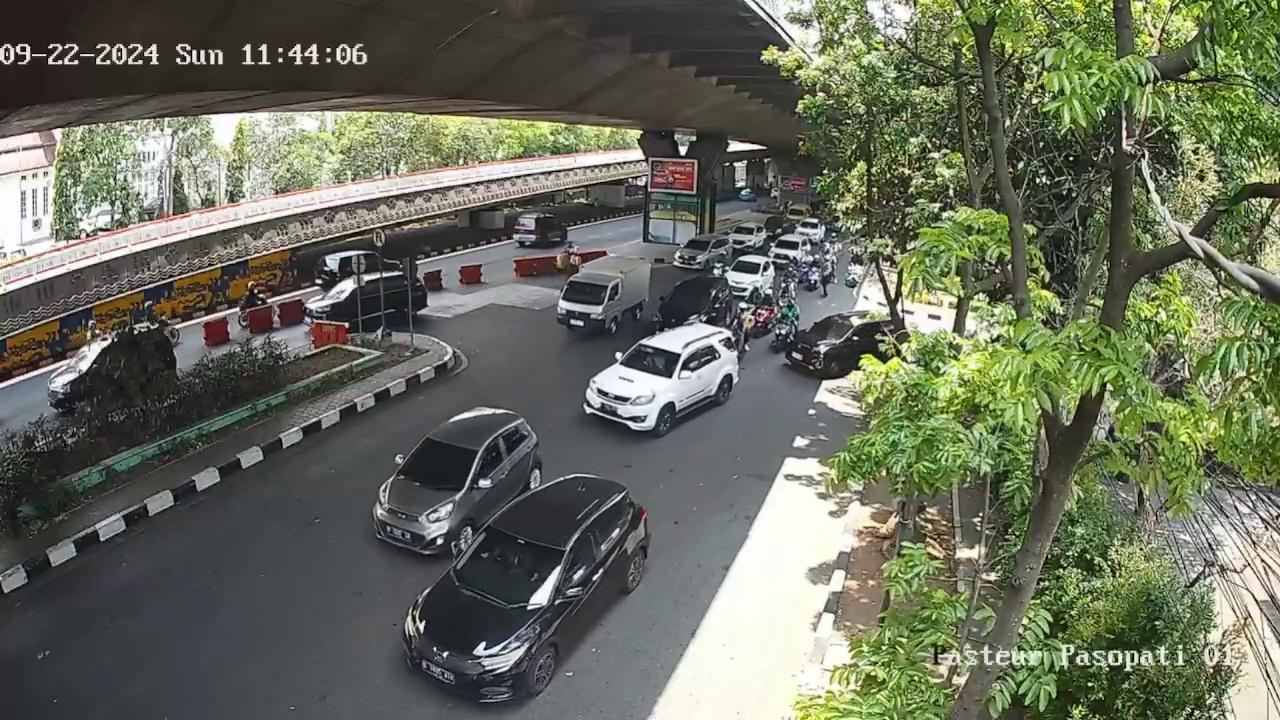pakai: (643, 352, 666, 372)
windshield: (459, 525, 568, 603), (399, 436, 477, 489), (619, 341, 682, 376), (558, 280, 610, 305), (667, 286, 713, 309), (731, 259, 762, 277), (684, 237, 710, 253)
